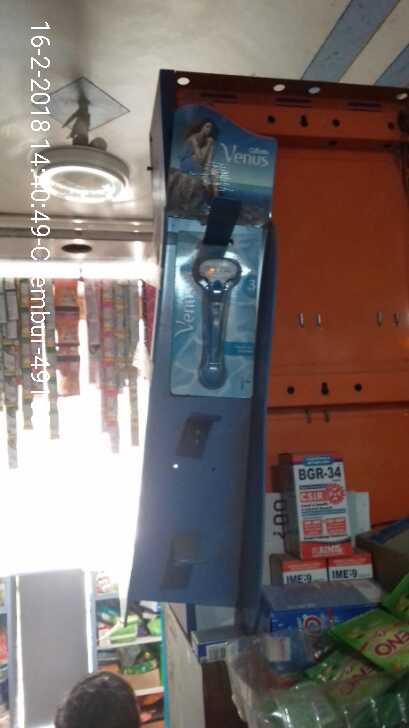venus: (167, 241, 251, 398)
